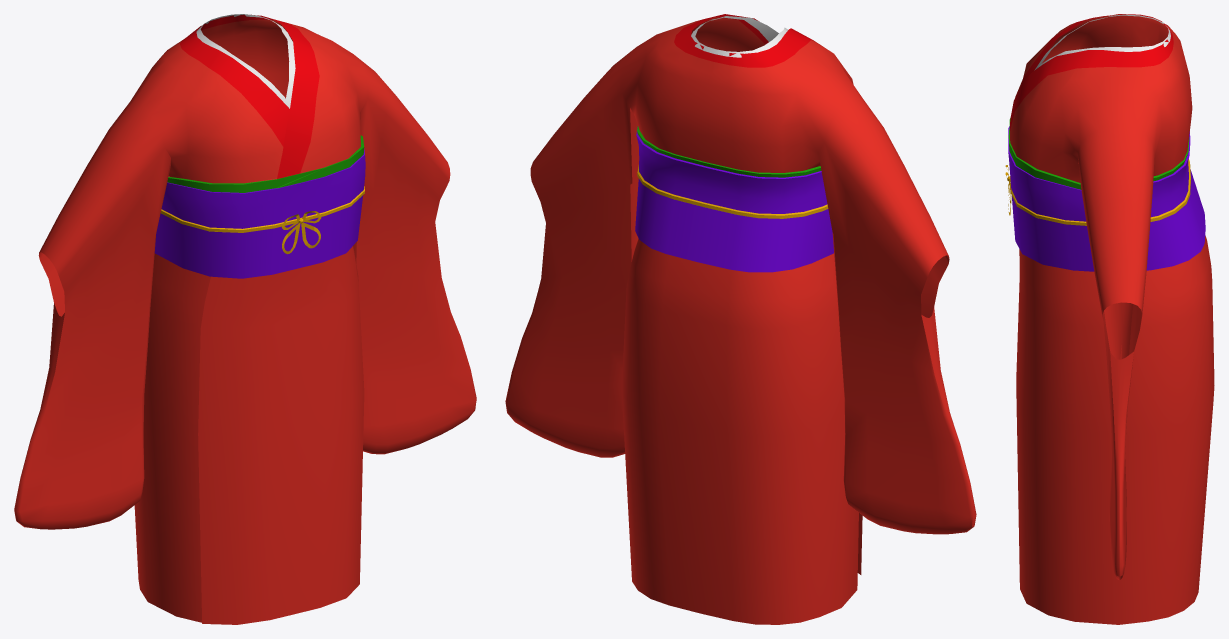
Rendered from tops_kimono.fbx.
3 views of the same model, side by side, from view 1: azimuth 30°, elevation 25°; view 2: azimuth 150°, elevation 25°; view 3: azimuth 270°, elevation 25° (orthographic).
Parts seen in each view (by area): view 1: kimono, ribbon; view 2: kimono; view 3: kimono.
Part boxes in pixels (<box>): kimono: <box>14,14,476,624</box>; ribbon: <box>282,211,321,254</box>; kimono: <box>505,14,976,624</box>; kimono: <box>1008,14,1214,624</box>.
Size of the model in its own units: 2.02 by 2.27 by 0.7878.
